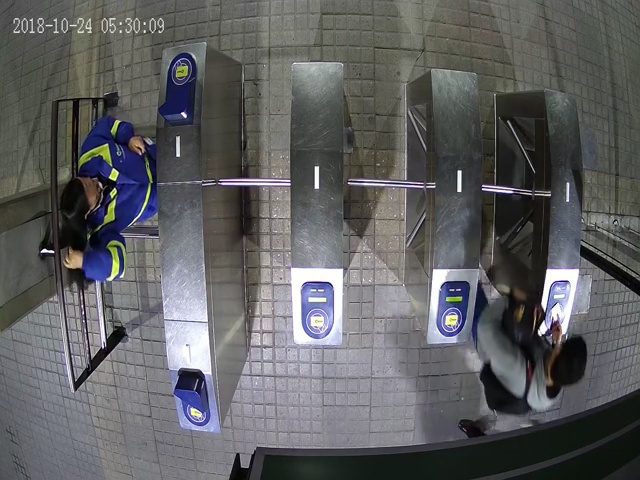Chaleco_azul: (60, 115, 159, 283)
